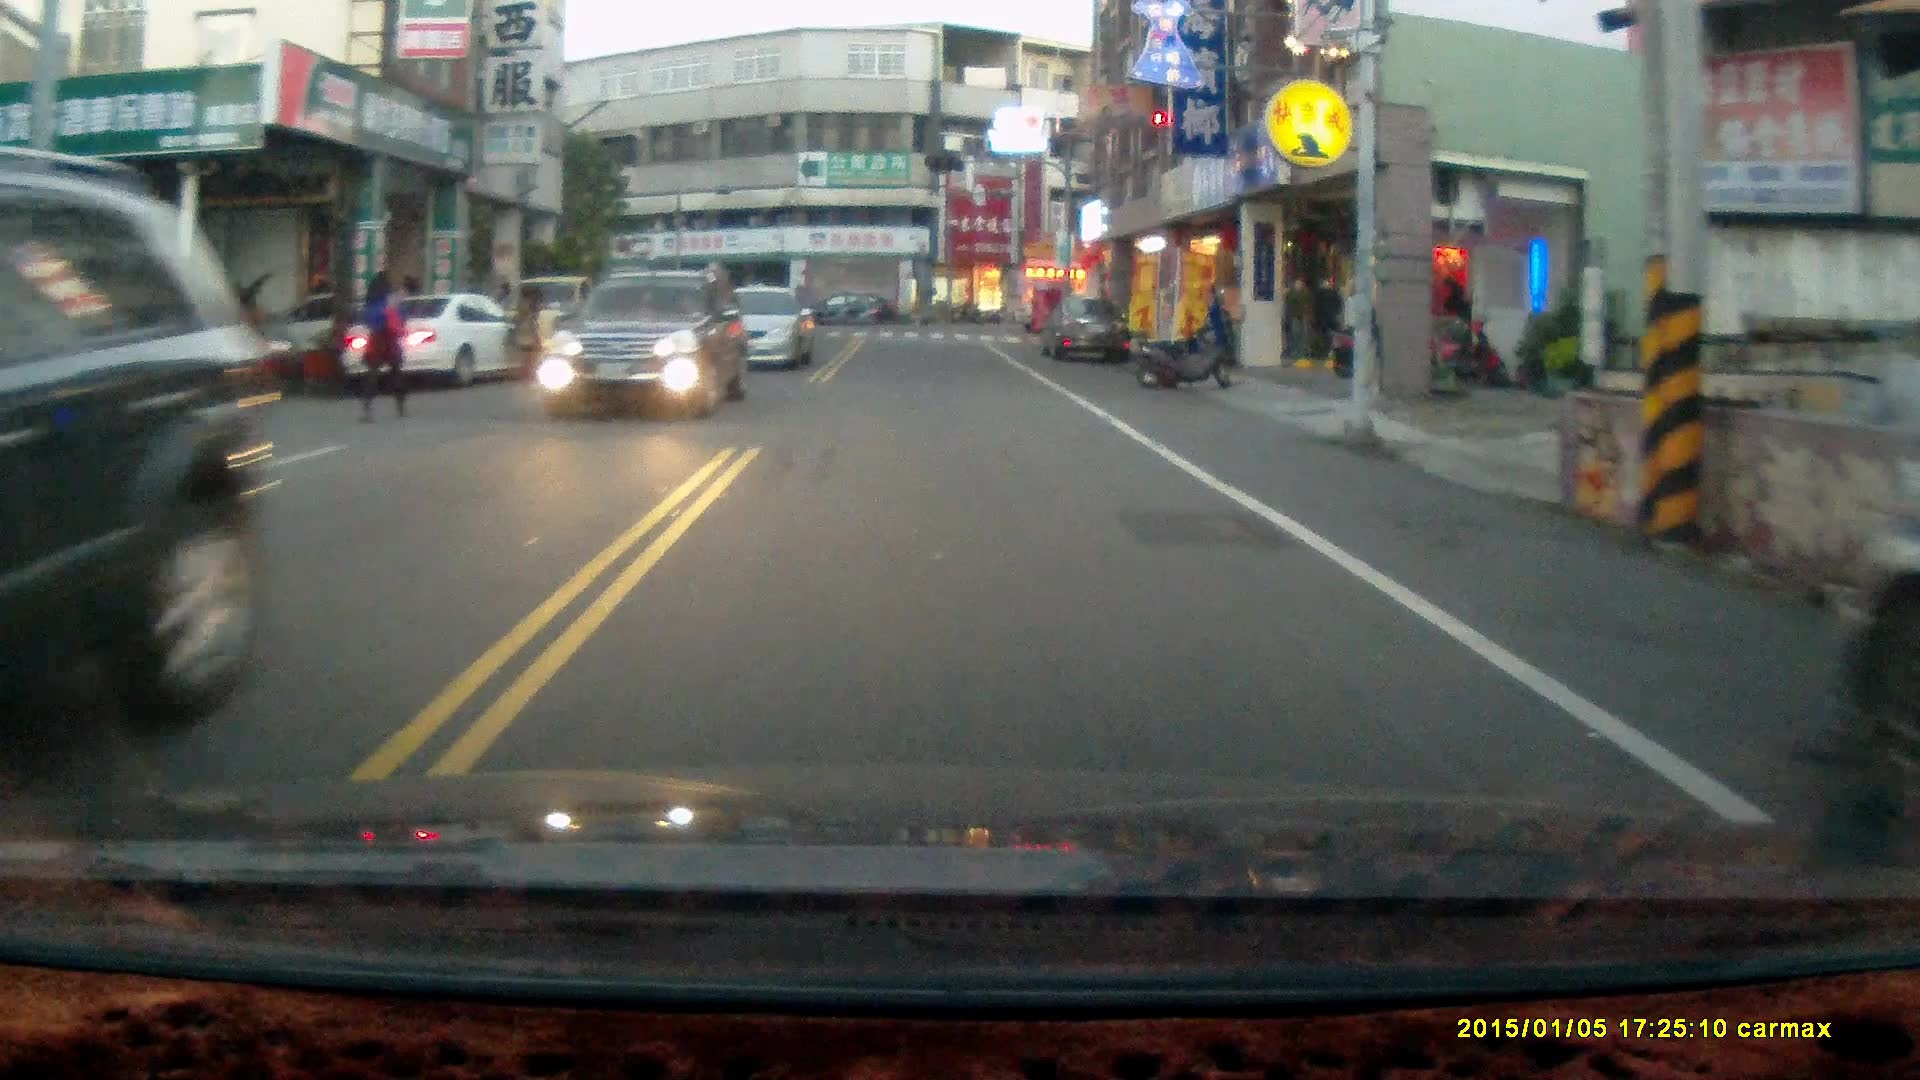pedestrian: (359, 266, 404, 423), (500, 279, 539, 381)
vehicle: (1, 161, 256, 758), (552, 264, 754, 418), (343, 290, 549, 391), (694, 281, 819, 369), (1044, 295, 1137, 367), (800, 290, 905, 329)
